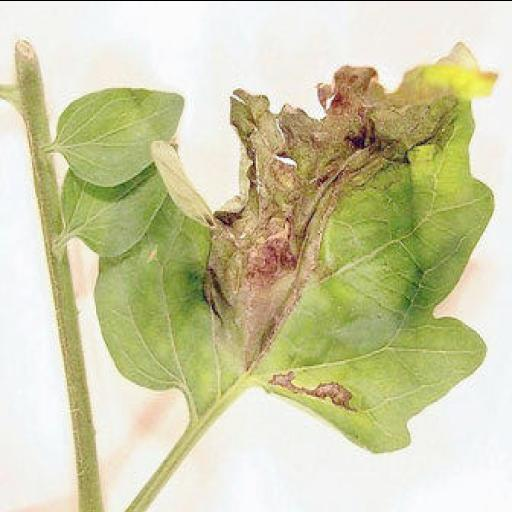Healthy: (54, 85, 186, 183)
Late Blight: (90, 37, 496, 449)
